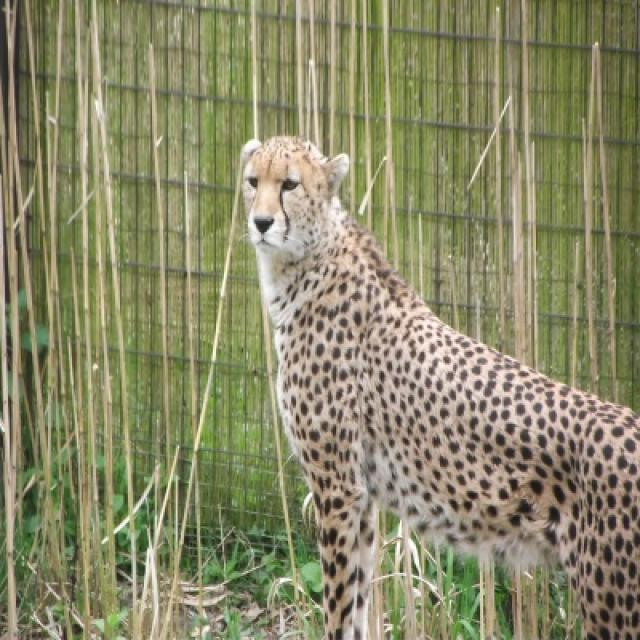Cheetah: (242, 136, 638, 638)
